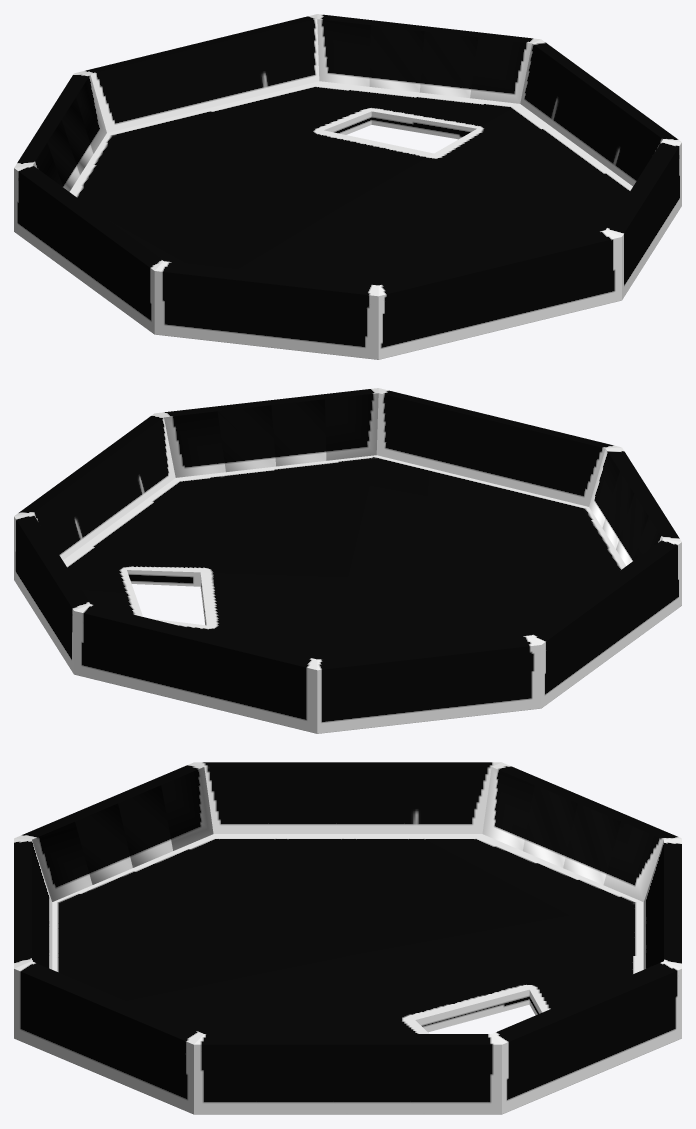
The model's file is floor_3.obj.
3 views of the same model, one above another, from view 1: azimuth 30°, elevation 25°; view 2: azimuth 150°, elevation 25°; view 3: azimuth 270°, elevation 25° (orthographic). The views are drawn at different scales.
Visible parts, largest first — view 1: floor.003; view 2: floor.003; view 3: floor.003.
Part boxes in pixels (bbox=[...]): floor.003: bbox=[14, 14, 681, 359]; floor.003: bbox=[14, 388, 681, 733]; floor.003: bbox=[14, 762, 681, 1114].
Size of the model in its own units: 32.5 by 3.92 by 32.5.
